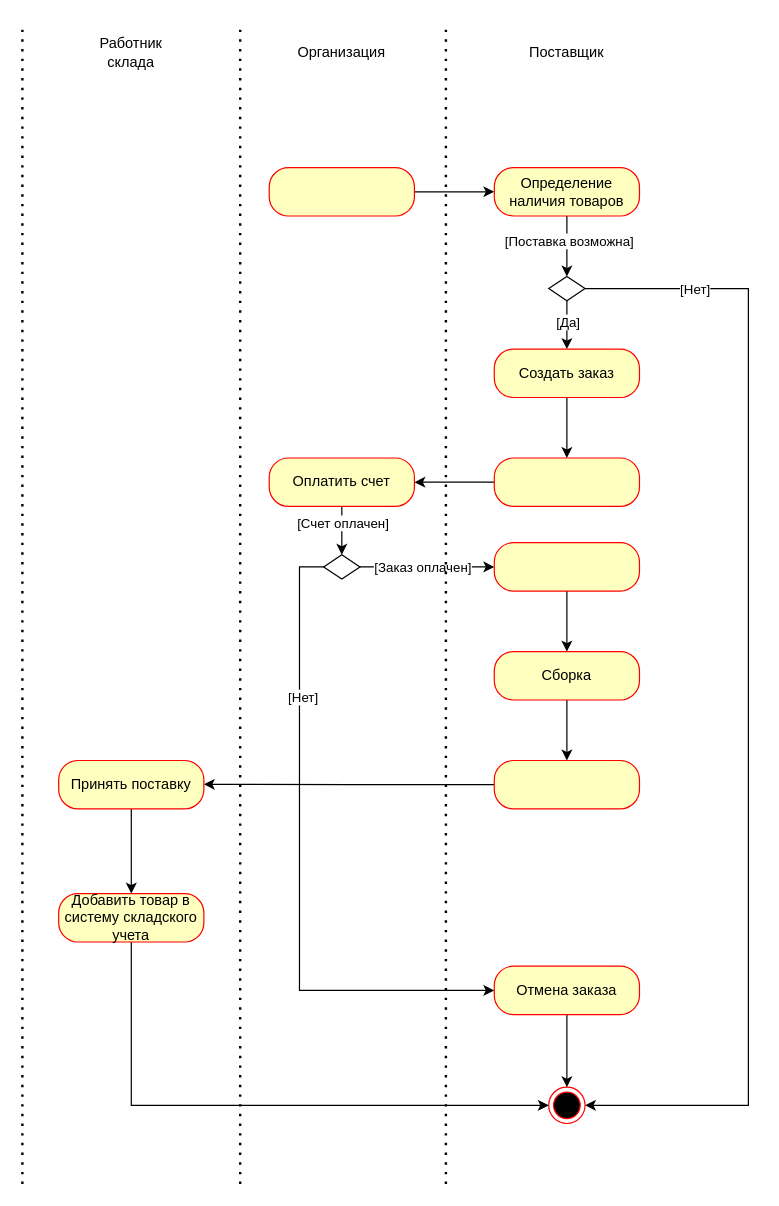
Some shapes in this 779 by 1206 pixel diagram are drawn without their labels. The box of each missing label's shape, as (x1, y1, x2, y2) in pixels:
Выбор товара: (268, 166, 414, 216)
Выписка накладной: (493, 541, 639, 591)
Отгрузка: (493, 759, 639, 809)
Оформить счет: (493, 457, 639, 506)
